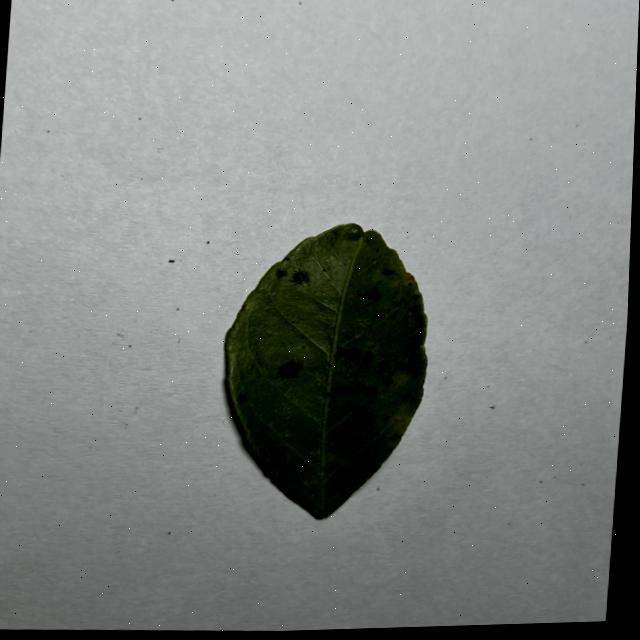sooty_mold: (225, 222, 426, 517)
